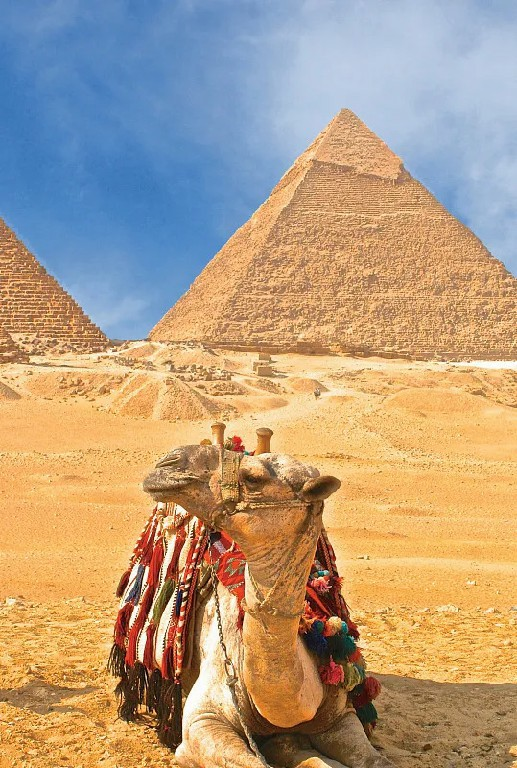Pyramid: (149, 107, 517, 365), (2, 219, 109, 346)
